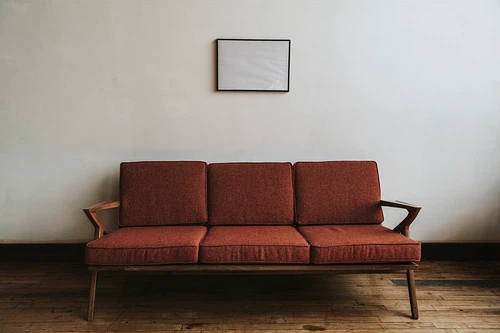sofa: (79, 157, 425, 323)
wall art: (213, 36, 292, 93)
